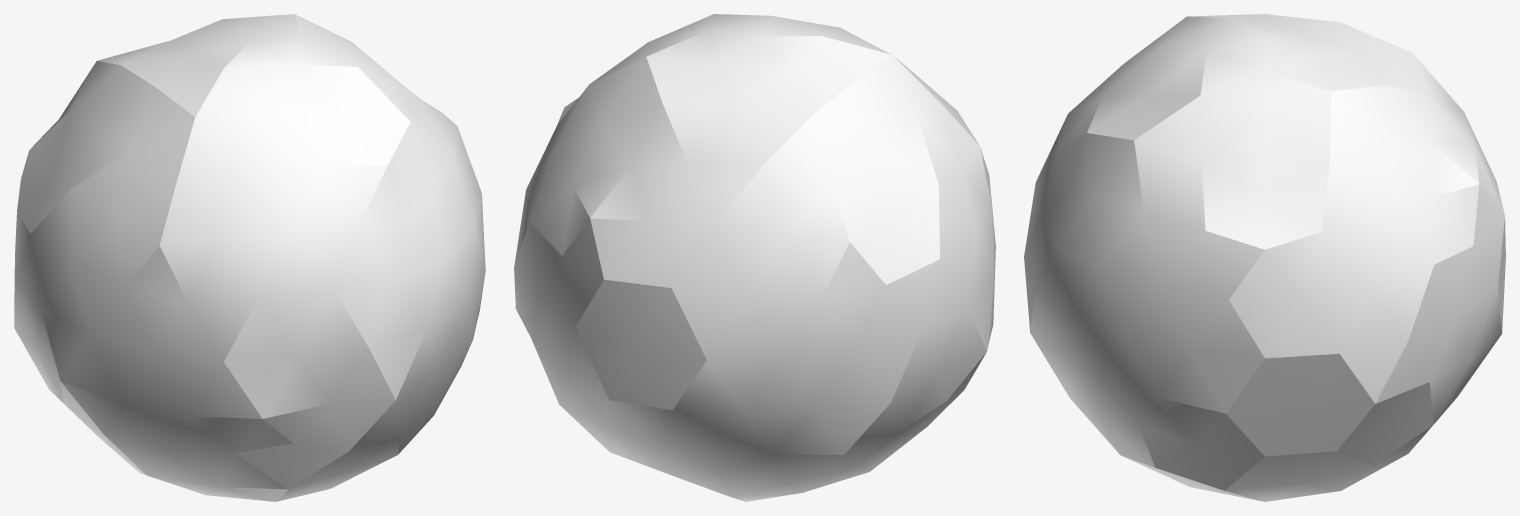
File: Snow_Ball.fbx
3 views of the same model, side by side, from view 1: azimuth 30°, elevation 25°; view 2: azimuth 150°, elevation 25°; view 3: azimuth 270°, elevation 25° (orthographic).
Parts seen in each view (by area): view 1: Icosphere; view 2: Icosphere; view 3: Icosphere.
Part boxes in pixels (x1,y1,x2,y2): Icosphere: [14, 14, 485, 501]; Icosphere: [514, 14, 995, 501]; Icosphere: [1024, 14, 1505, 501].
Size of the model in its own units: 55.6 by 55.6 by 55.6.
1 material, 1 textured.
